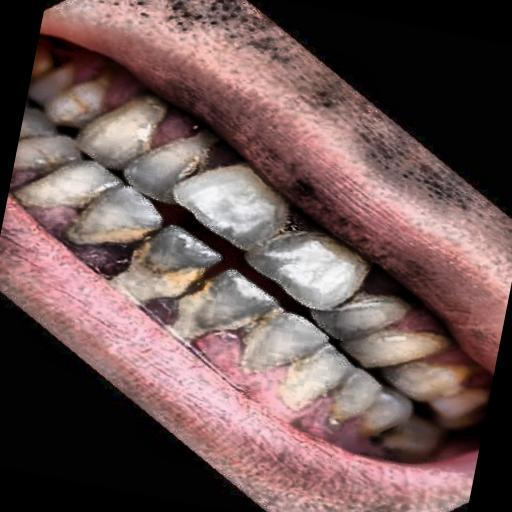Calculus: (2, 98, 310, 362), (204, 261, 493, 474)
